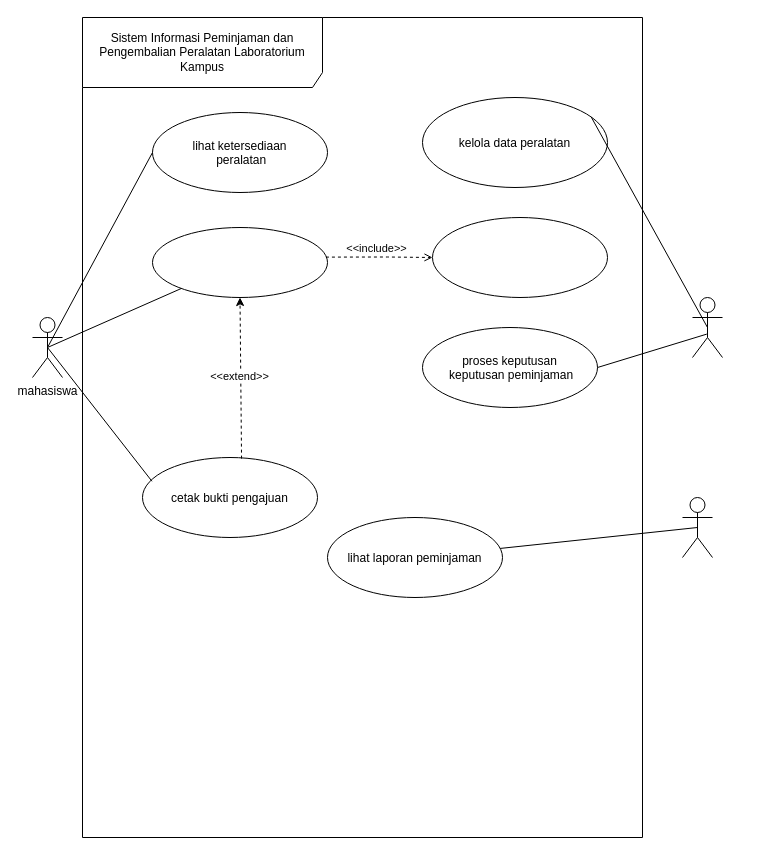
Image size: 758x855. Some labels were removed from this diagram. The centre of each missing label's shape, as x and y in pixels:
ajukan peminjaman: [240,262]
kepala laboratorium: [697,527]
periksa keteersediaan: [520,257]
petugas l laboratorium: [707,327]
